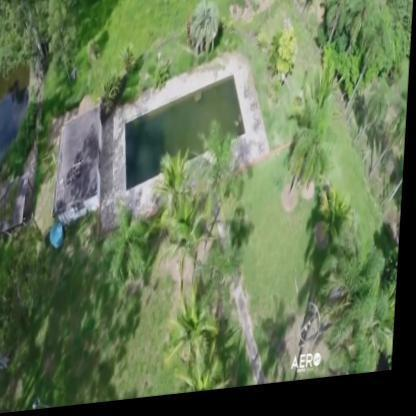agua: (133, 81, 238, 168)
